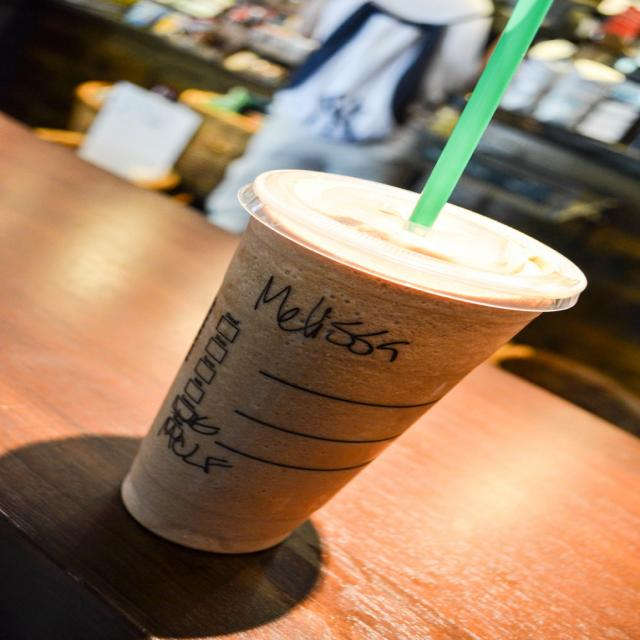Coffee: (136, 171, 580, 573)
